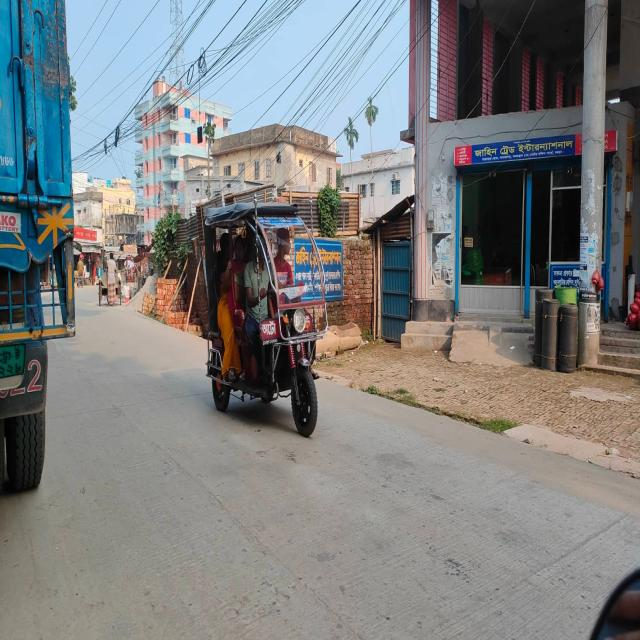Easybike: (190, 192, 344, 453)
Truck: (1, 1, 97, 525)
